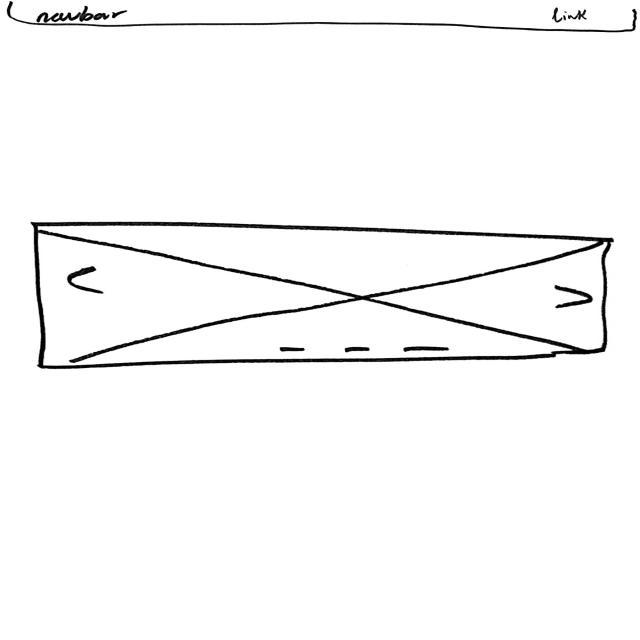container: (9, 0, 638, 33)
image: (28, 218, 612, 370)
label: (34, 5, 130, 22), (550, 7, 588, 23)
